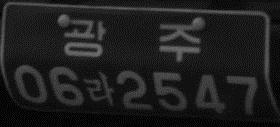0: (14, 63, 47, 104)
2: (116, 70, 151, 109)
4: (193, 73, 224, 114)
5: (152, 71, 188, 112)
6: (48, 65, 83, 107)
7: (225, 74, 258, 117)
광주_D: (63, 18, 201, 60)
라: (85, 70, 114, 107)
